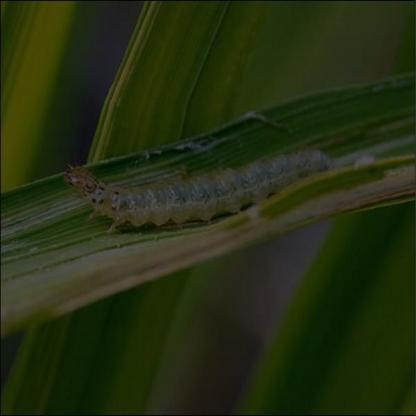leaf-folder: (62, 146, 363, 239)
